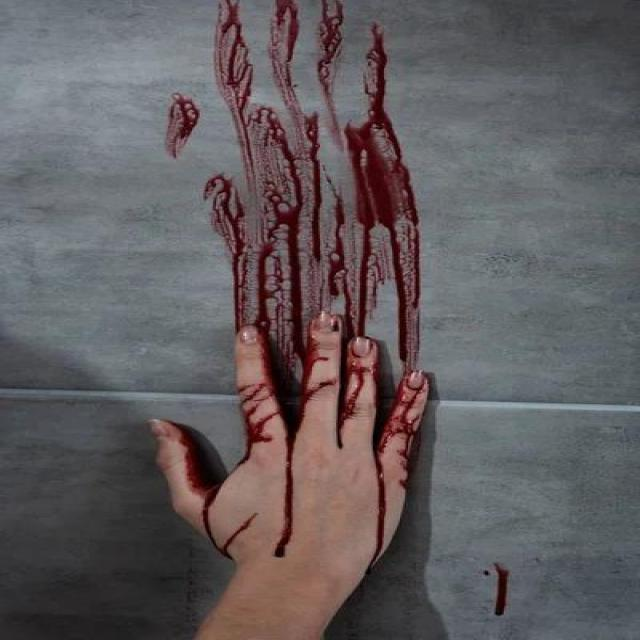knife: (230, 105, 327, 264), (344, 122, 420, 225), (201, 176, 247, 323), (250, 259, 309, 362), (329, 226, 374, 329), (214, 2, 255, 109), (395, 234, 421, 370), (269, 2, 300, 104), (315, 2, 344, 103), (164, 92, 201, 159), (362, 21, 386, 122), (272, 472, 296, 560), (492, 562, 510, 617)
